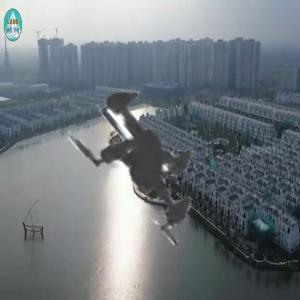drone: (11, 7, 298, 294)
